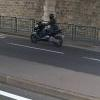Motorcycle: (25, 12, 65, 49)
